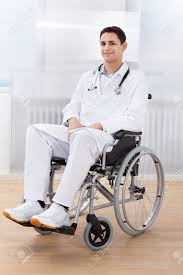wheelchair: (2, 26, 165, 251)
